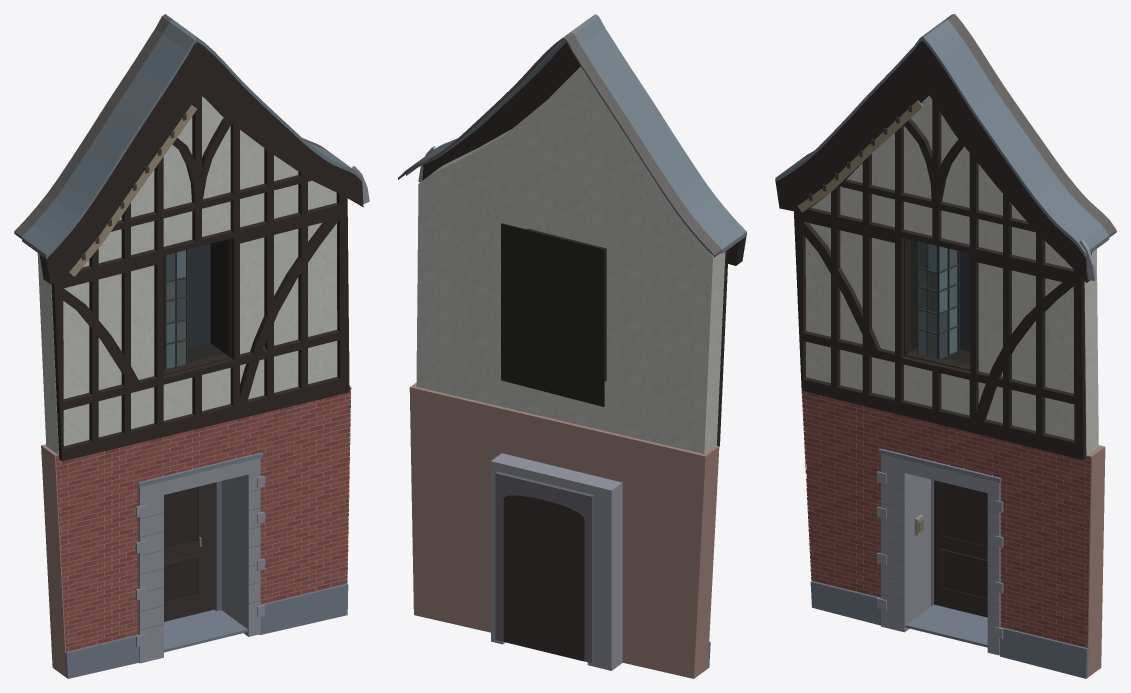
File: changning-yuyuan-lane-865-timber-gable-lod.glb
3 views of the same model, side by side, from view 1: azimuth 30°, elevation 25°; view 2: azimuth 150°, elevation 25°; view 3: azimuth 330°, elevation 25° (orthographic). The views are drawn at different scales.
Parts seen in each view (by area): view 1: 愚园路865弄花园住宅木构图案山墙与内凹门洞; view 2: 愚园路865弄花园住宅木构图案山墙与内凹门洞; view 3: 愚园路865弄花园住宅木构图案山墙与内凹门洞.
Boxes of the visible parts, box(x1,y1,x2,y2) form: 愚园路865弄花园住宅木构图案山墙与内凹门洞: box(14, 14, 369, 678); 愚园路865弄花园住宅木构图案山墙与内凹门洞: box(398, 14, 746, 678); 愚园路865弄花园住宅木构图案山墙与内凹门洞: box(775, 14, 1116, 678).
Size of the model in its own units: 4.63 by 8.47 by 0.952.
Materials: 26 (1 with a texture image).
